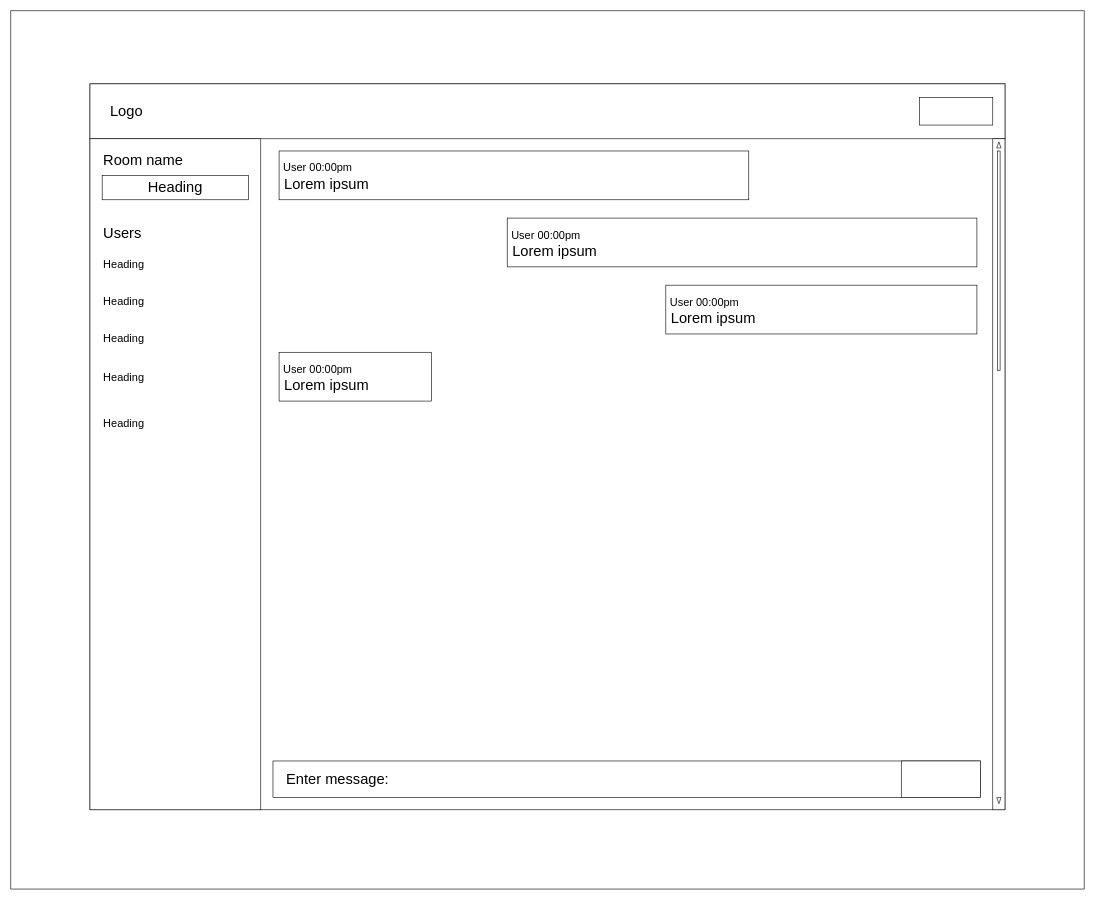
Image size: 1095x900. Some labels were removed from this diagram. Here are the shapes that lost their labels. From the top down, the centre of each, then its label:
At point (956, 111): "Leave".
At point (941, 779): "Send".
